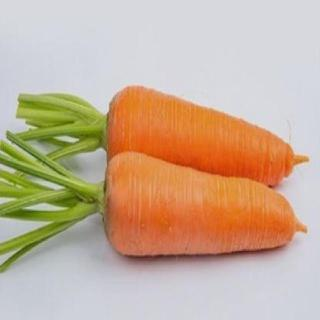carrot: (90, 149, 307, 267), (88, 87, 306, 189)
